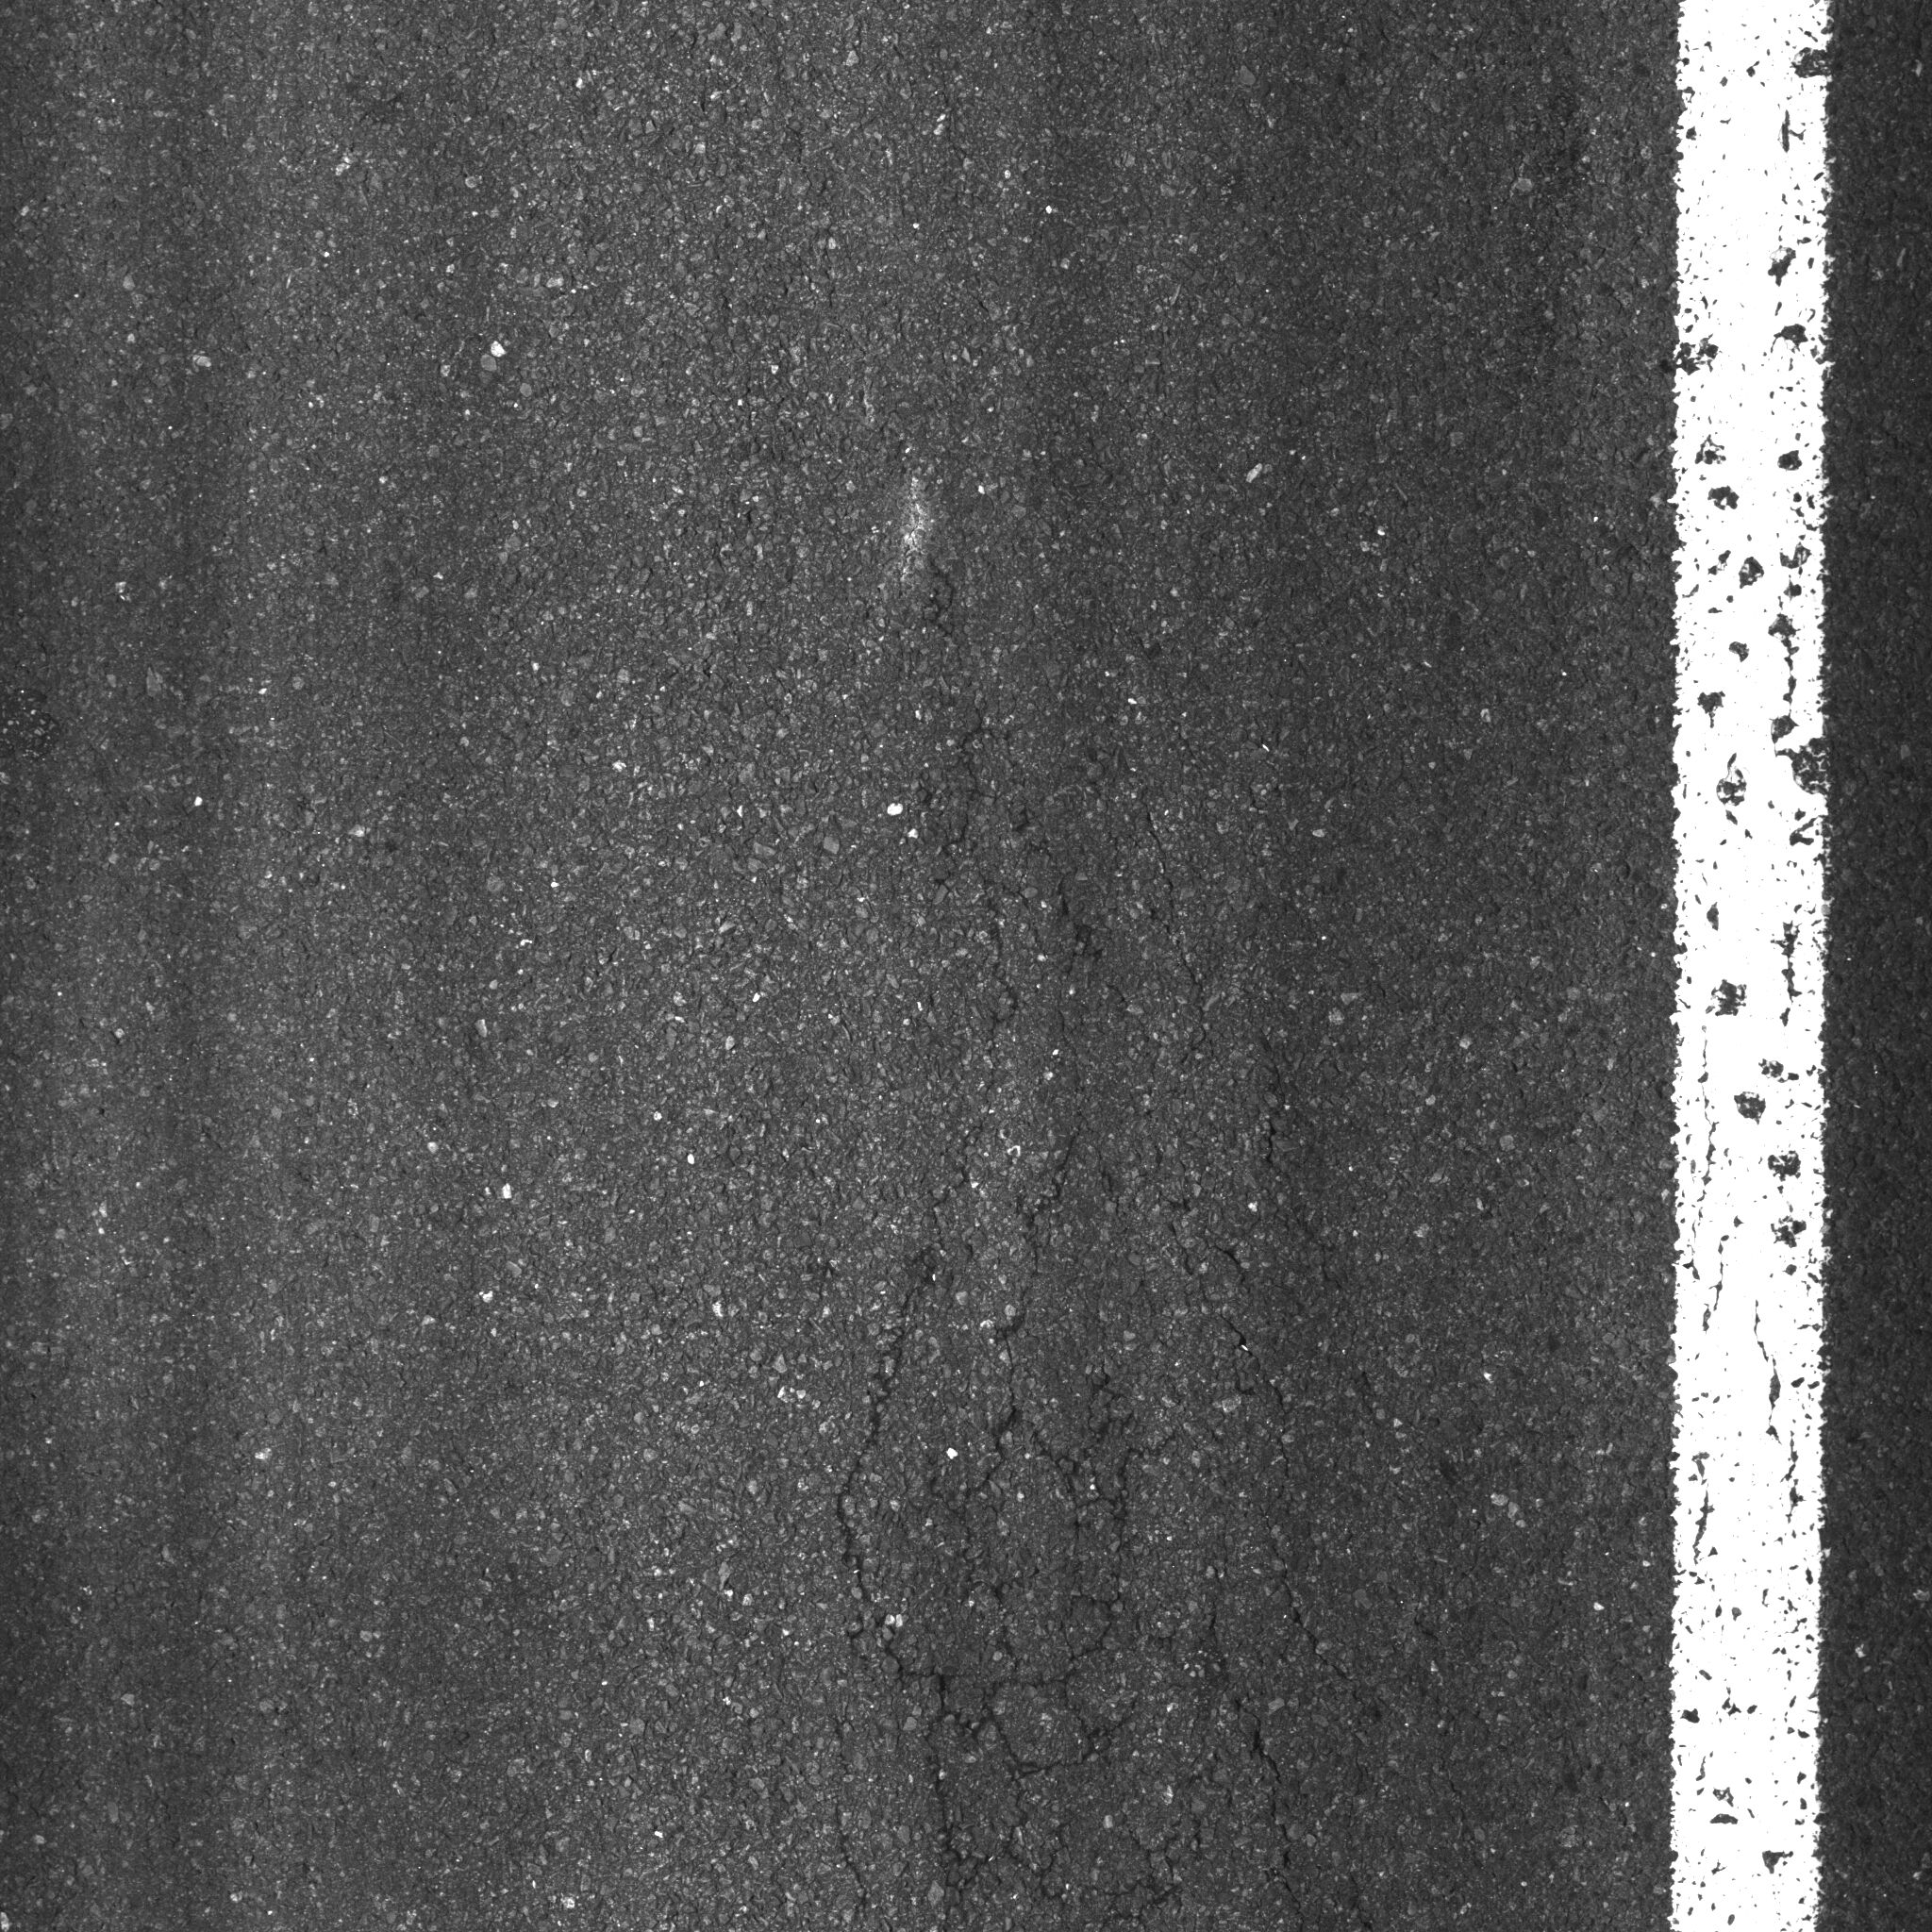alligator: (810, 708, 1426, 1911)
